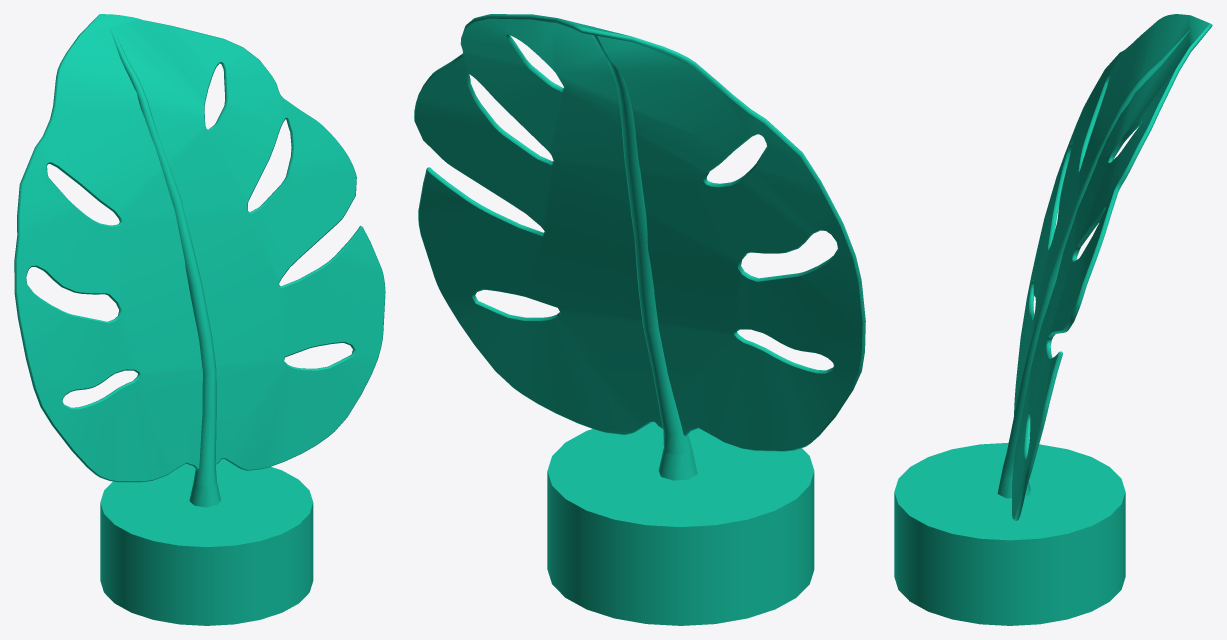
Rendered from Leaf.fbx.
3 renders of one model, left to right at view 1: azimuth 30°, elevation 25°; view 2: azimuth 150°, elevation 25°; view 3: azimuth 270°, elevation 25°, orthographic. The views are drawn at different scales.
Parts seen in each view (by area): view 1: Leaf; view 2: Leaf; view 3: Leaf.
Part boxes in pixels (x1,y1,x2,y2): Leaf: (14,14,385,625); Leaf: (414,14,865,625); Leaf: (894,14,1212,625).
Size of the model in its own units: 23.86 by 31.91 by 16.85.
